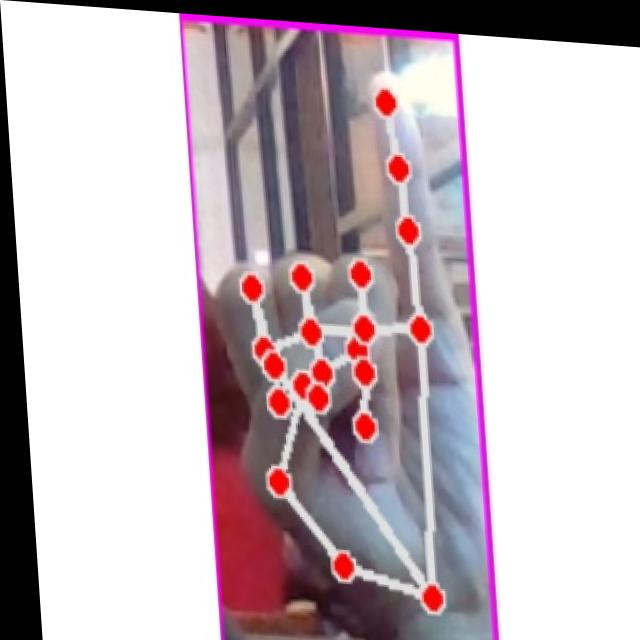I: (201, 47, 479, 639)
